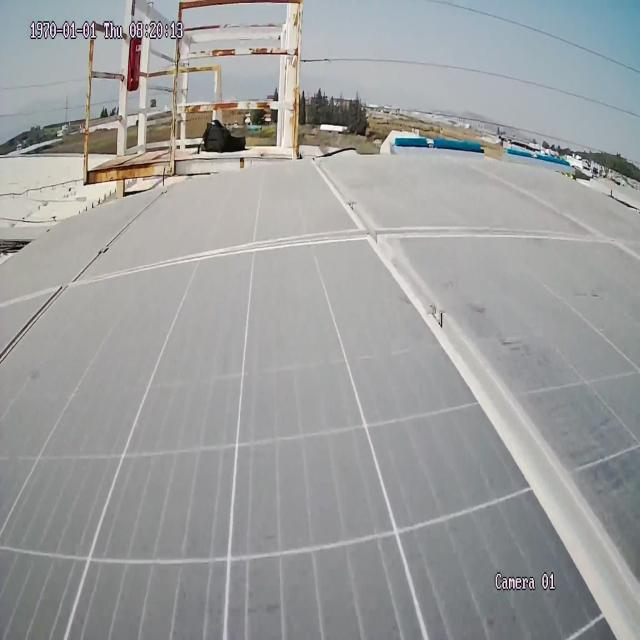interior panel: (3, 173, 633, 590)
